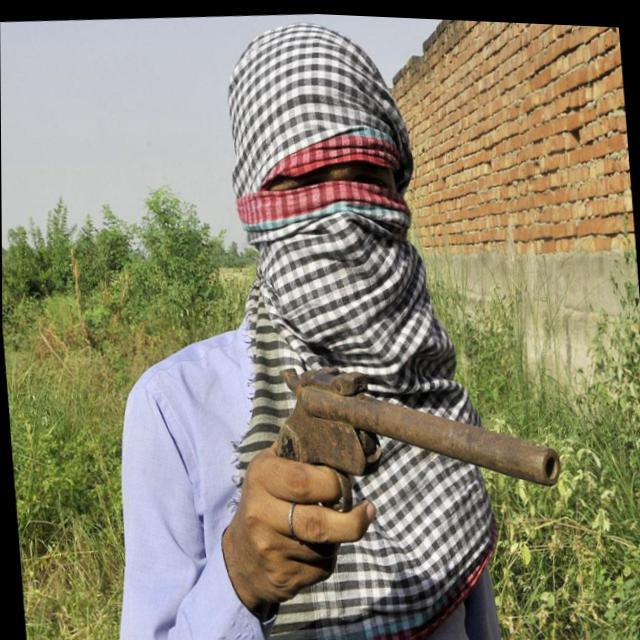weapon: (248, 334, 580, 608)
